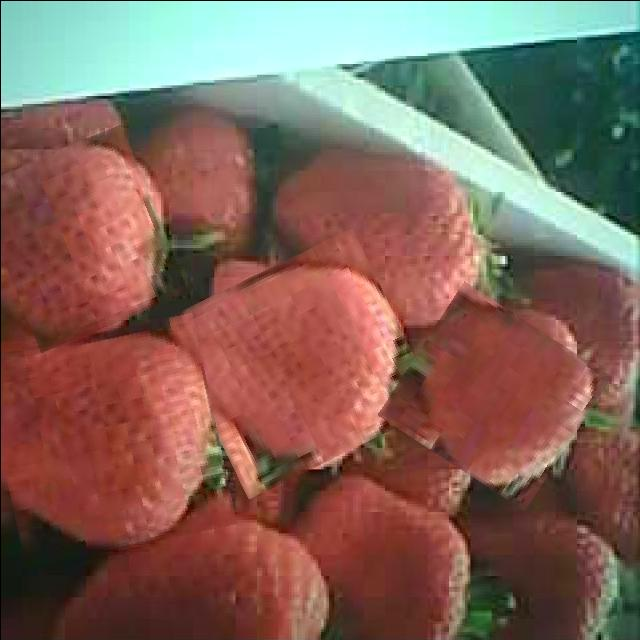strawberry: (177, 246, 421, 481), (0, 322, 226, 558), (391, 297, 596, 492), (0, 135, 174, 340)
